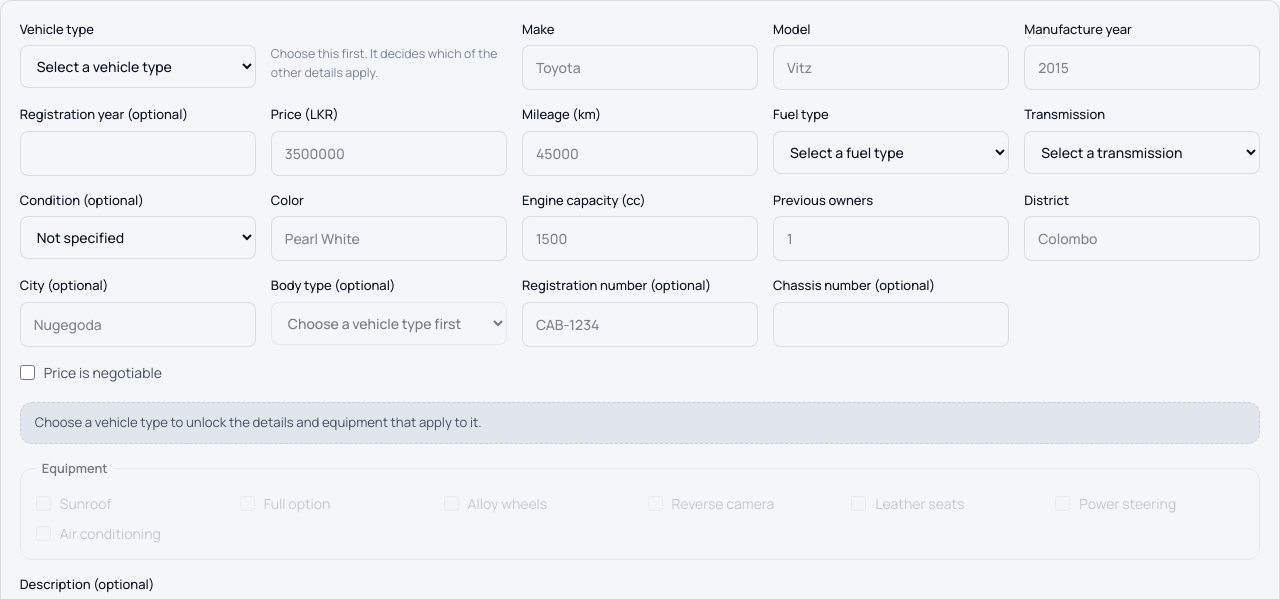
Test case: ListingForm CSV-parity fields › swaps the category fields with the vehicle type
This screenshot has width=1280, height=599.
Expected: the field labelled "Seats (optional)" is not shown
Expected: the field labelled "Stroke type (optional)" is not shown
Select "CAR" in the dropdown labelled "Vehicle type" at (138,67), box [20, 45, 256, 88]
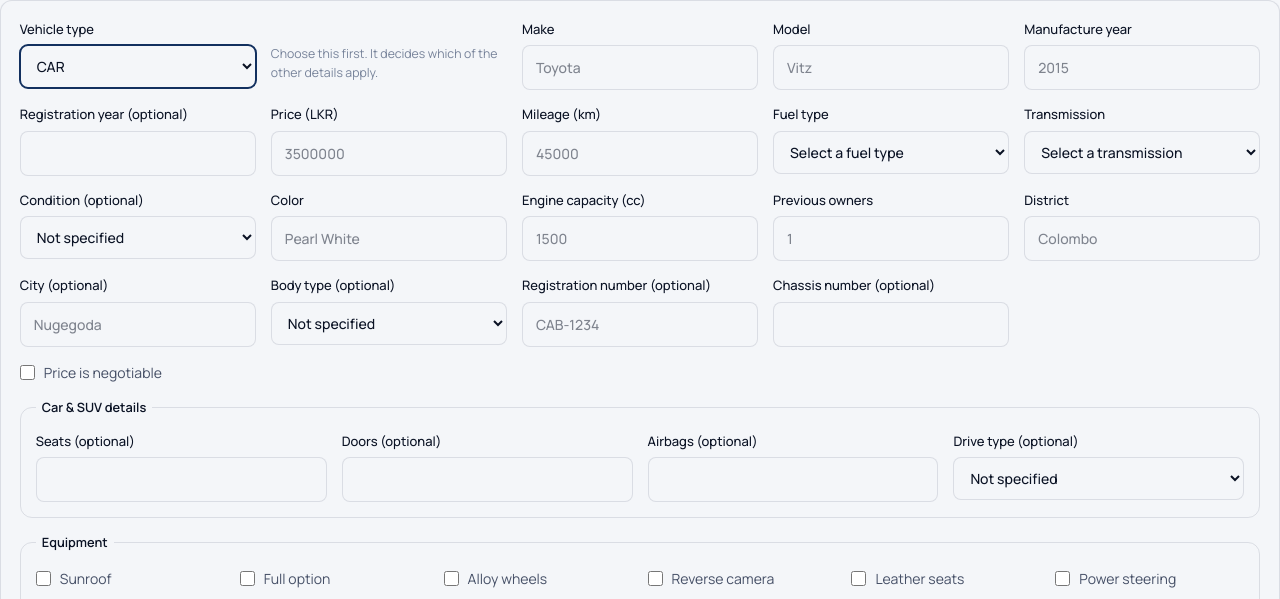
Expected: the number field labelled "Seats (optional)" is shown, [36, 457, 327, 502]
Select "BIKE" in the dropdown labelled "Vehicle type" at (138,67), box [20, 45, 256, 88]
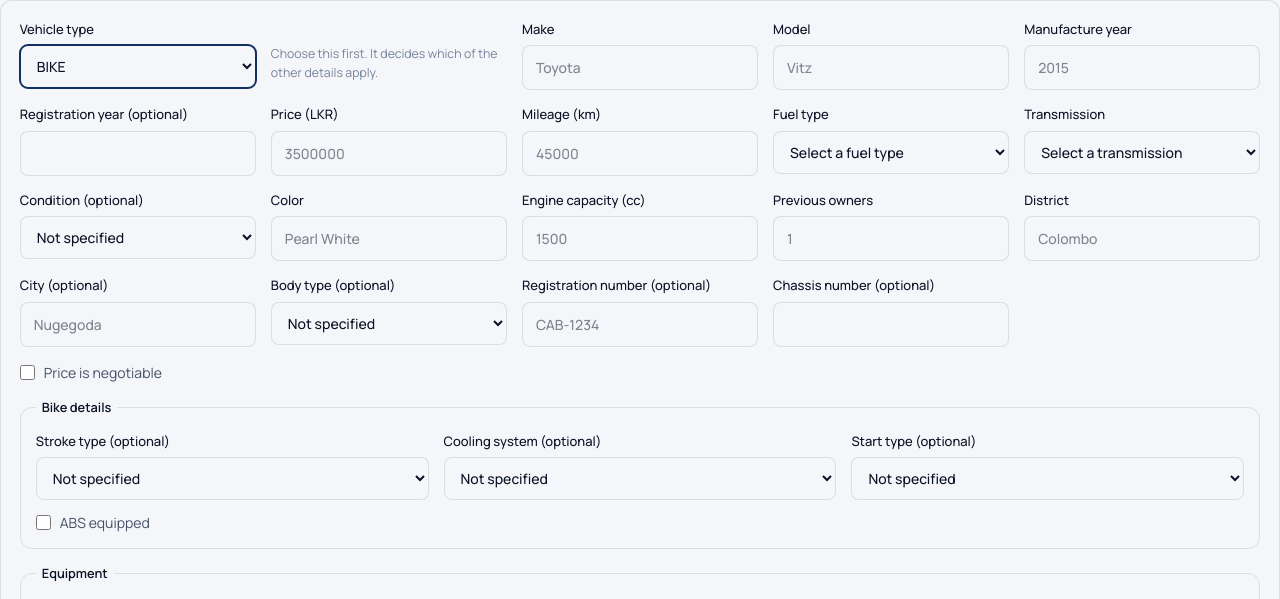
Expected: the dropdown labelled "Stroke type (optional)" is shown, [36, 457, 429, 500]
Expected: the text labelled "Seats (optional)" is gone
Select "LORRY" in the dropdown labelled "Vehicle type" at (138,67), box [20, 45, 256, 88]
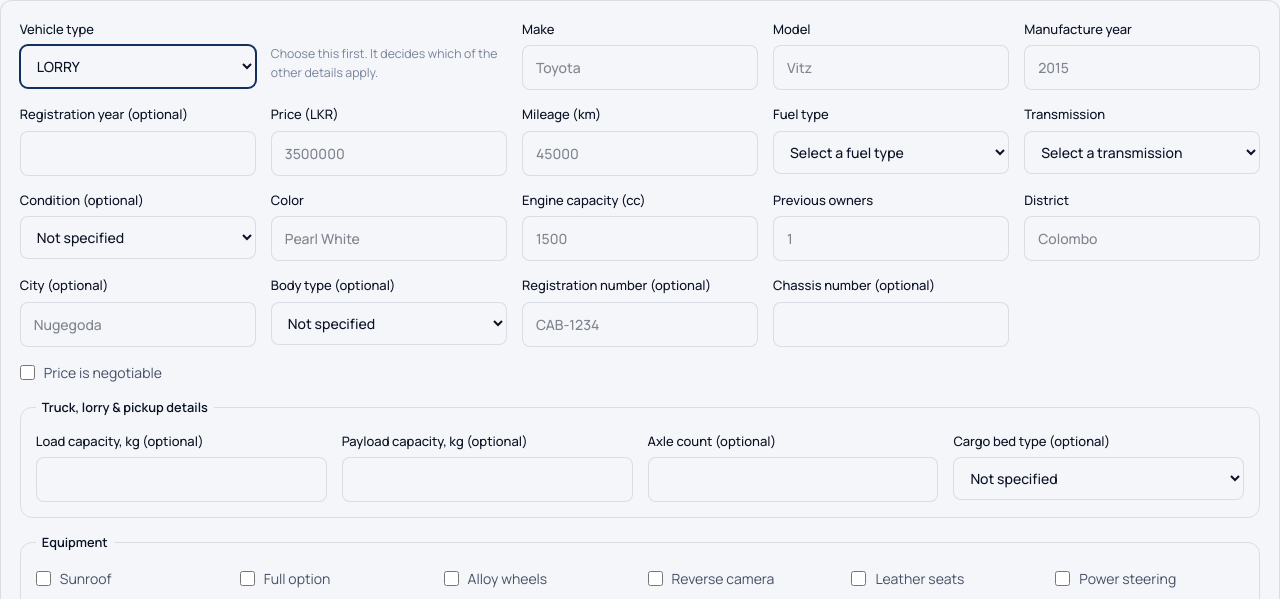
Expected: the number field labelled "Axle count (optional)" is shown, [648, 457, 938, 502]
